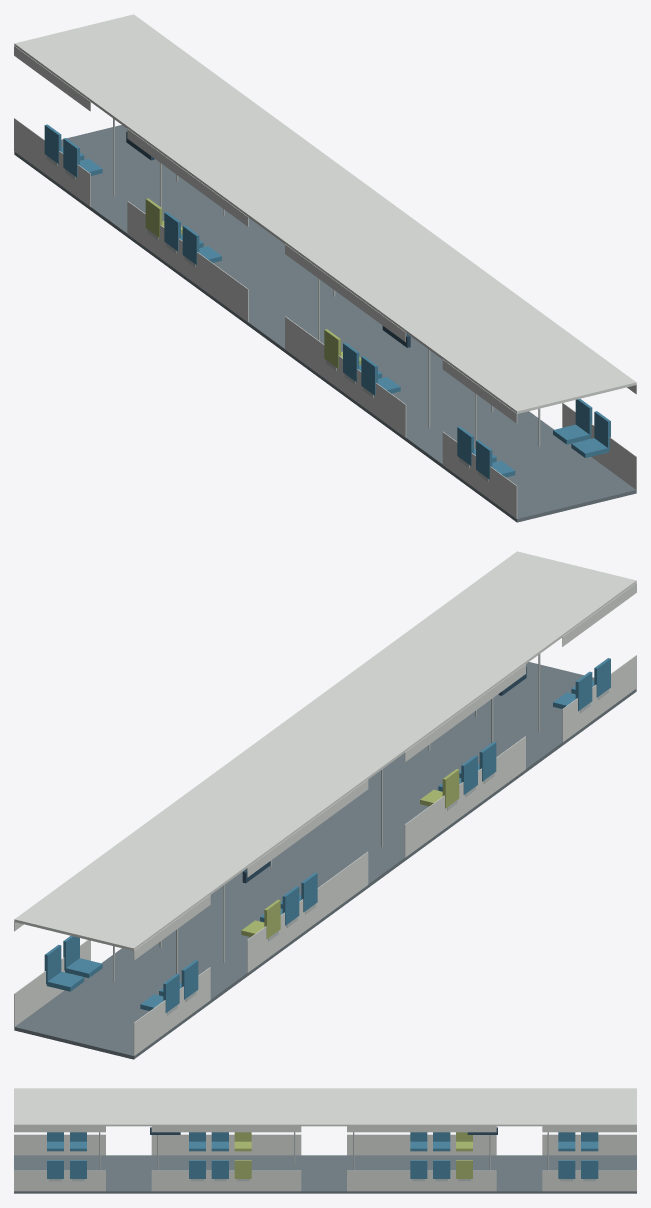
The model's file is canada-line-shared-interior.lod0.glb.
3 views of the same model, one above another, from view 1: azimuth 30°, elevation 25°; view 2: azimuth 150°, elevation 25°; view 3: azimuth 270°, elevation 25° (orthographic). The views are drawn at different scales.
Parts seen in each view (by area): view 1: interior-batch-canada-wall, interior-batch-canada-floor, interior-batch-canada-seat, interior-batch-canada-rail, interior-batch-canada-priority; view 2: interior-batch-canada-wall, interior-batch-canada-floor, interior-batch-canada-seat, interior-batch-canada-priority, interior-batch-canada-rail; view 3: interior-batch-canada-wall, interior-batch-canada-floor, interior-batch-canada-seat, interior-batch-canada-priority, interior-batch-canada-rail, interior-batch-canada-sign.
Part boxes in pixels (bbox=[...]): interior-batch-canada-wall: bbox=[14, 14, 636, 518]; interior-batch-canada-floor: bbox=[14, 125, 636, 522]; interior-batch-canada-seat: bbox=[44, 124, 610, 479]; interior-batch-canada-rail: bbox=[46, 118, 540, 481]; interior-batch-canada-priority: bbox=[145, 198, 361, 368]; interior-batch-canada-wall: bbox=[14, 551, 636, 1055]; interior-batch-canada-floor: bbox=[14, 662, 636, 1059]; interior-batch-canada-seat: bbox=[44, 658, 610, 1012]; interior-batch-canada-priority: bbox=[241, 769, 459, 938]; interior-batch-canada-rail: bbox=[51, 654, 608, 1015]; interior-batch-canada-wall: bbox=[14, 1088, 636, 1191]; interior-batch-canada-floor: bbox=[14, 1155, 636, 1193]; interior-batch-canada-seat: bbox=[47, 1132, 598, 1178]; interior-batch-canada-priority: bbox=[234, 1132, 472, 1178]; interior-batch-canada-rail: bbox=[49, 1132, 595, 1181]; interior-batch-canada-sign: bbox=[150, 1127, 497, 1134].
Size of the model in its own units: 2.84 by 2.49 by 20.41.
